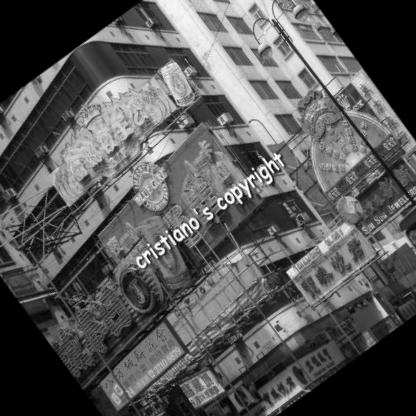bus: (378, 179, 416, 302)
